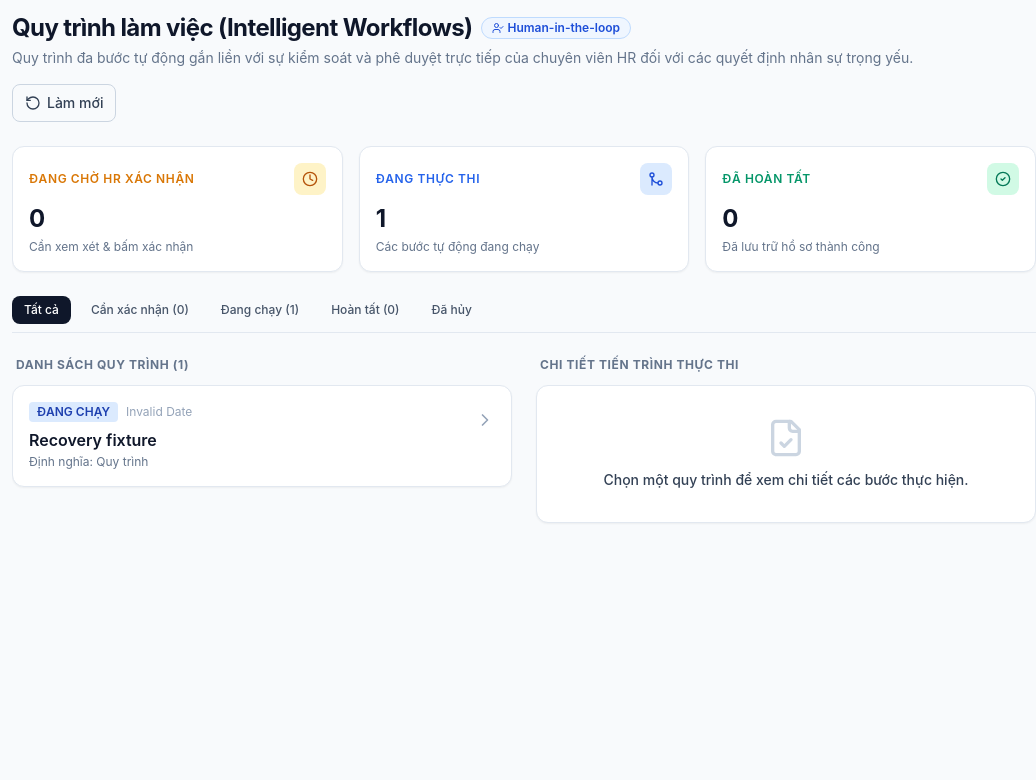
Test: workflow completion recovery controls › keeps a failed completion retry visible with an honest error
Click the heading "Recovery fixture".
click(93, 440)  # box 29,430 -> 157,450
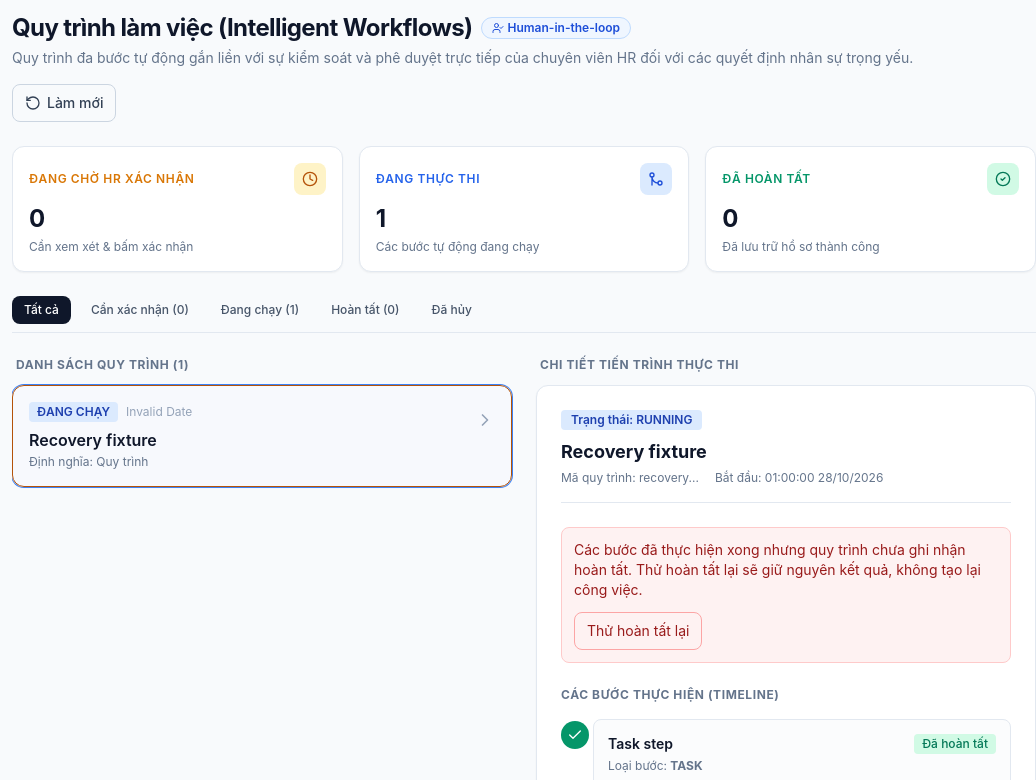
Click the button "Thử hoàn tất lại".
click(638, 631)  # box 574,612 -> 702,650
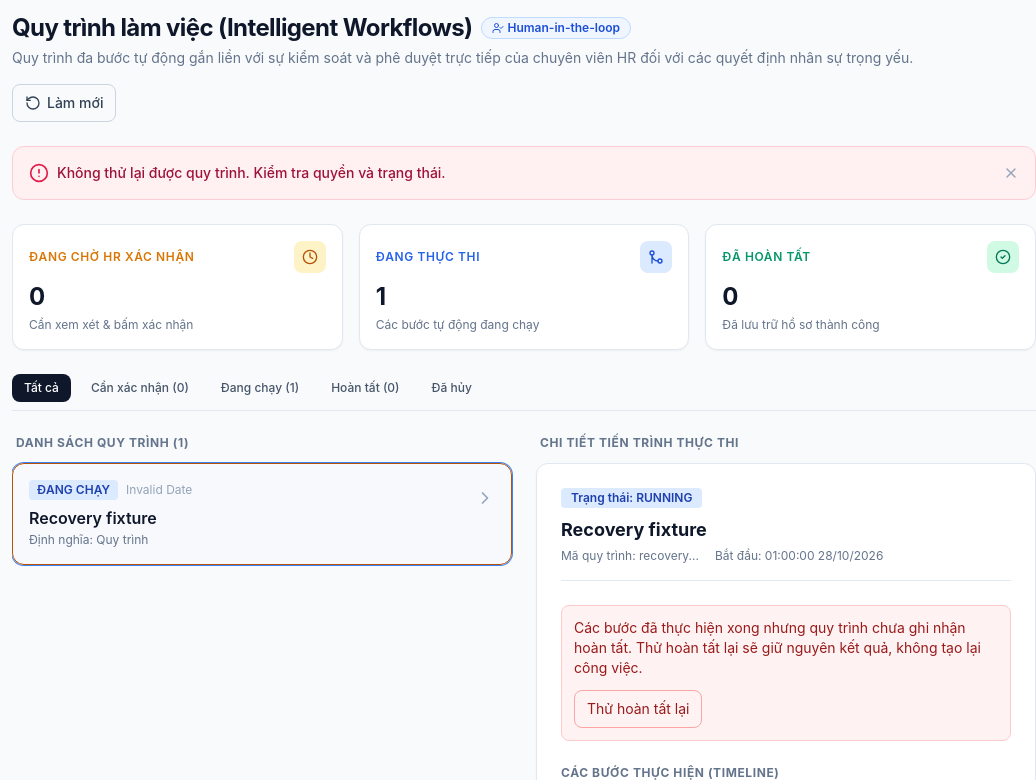
Expected: the button "Thử hoàn tất lại" is enabled, 574,690 -> 702,728
Expected: the text "Không thử lại được quy trình. Kiểm tra quyền và trạng thái." is shown, 57,163 -> 446,183
